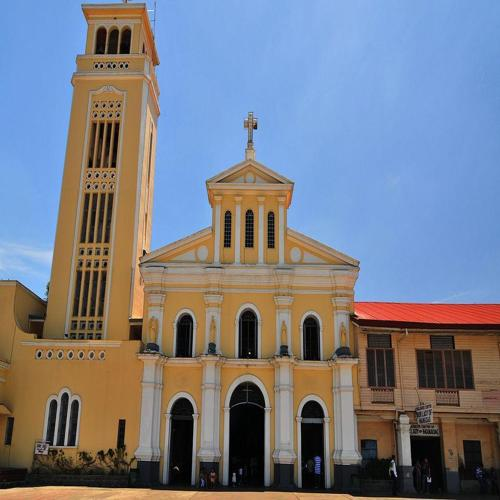Manaoag Church: (50, 4, 363, 489)
